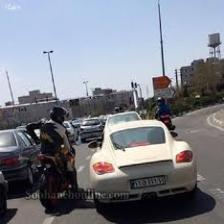plate: (129, 174, 166, 191)
